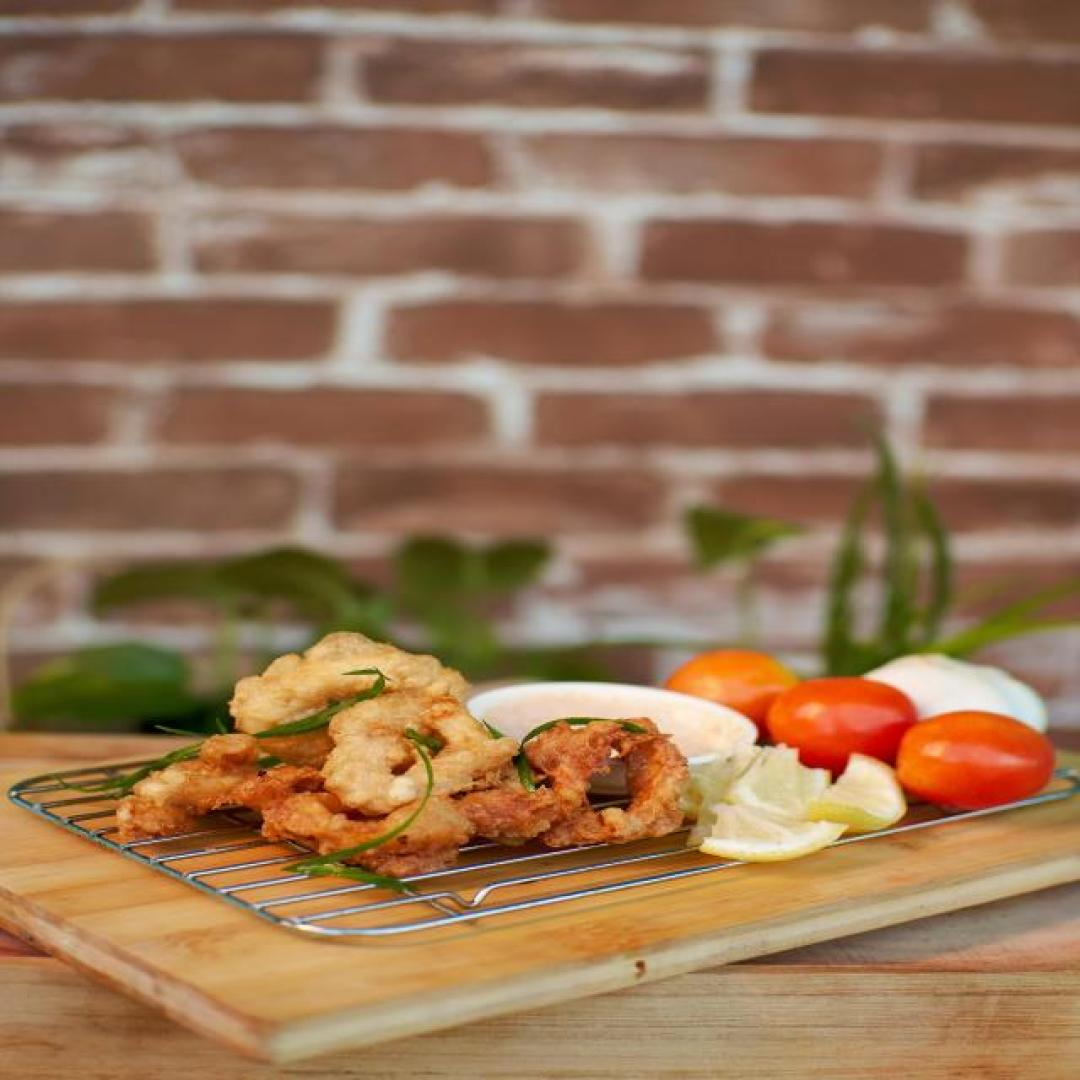matang: (895, 710, 1056, 808), (764, 677, 920, 776)
